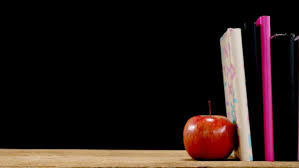apple: (184, 118, 233, 160)
